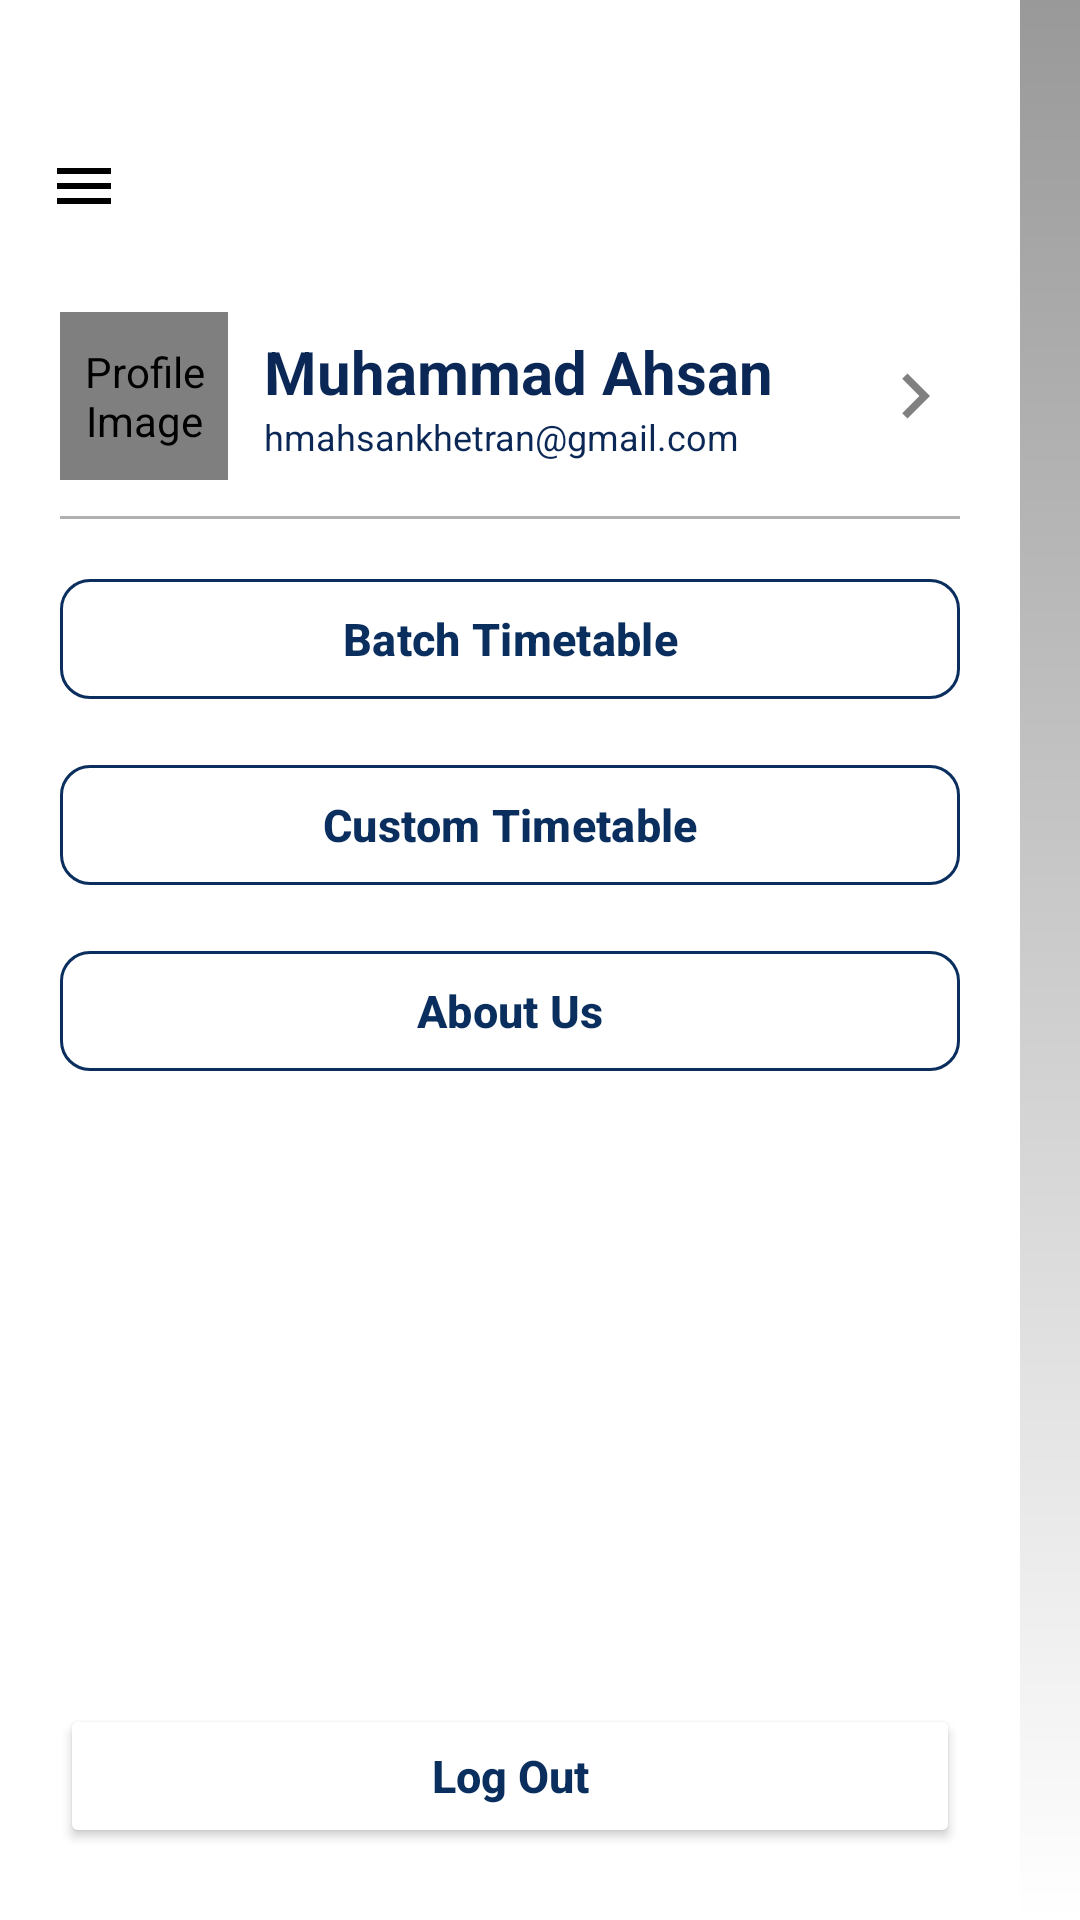

Locate icon controls on the screen. Image size 1080*1920, boxes as region(x1, y1, x2, y2).
arrow right: region(902, 373, 930, 419)
